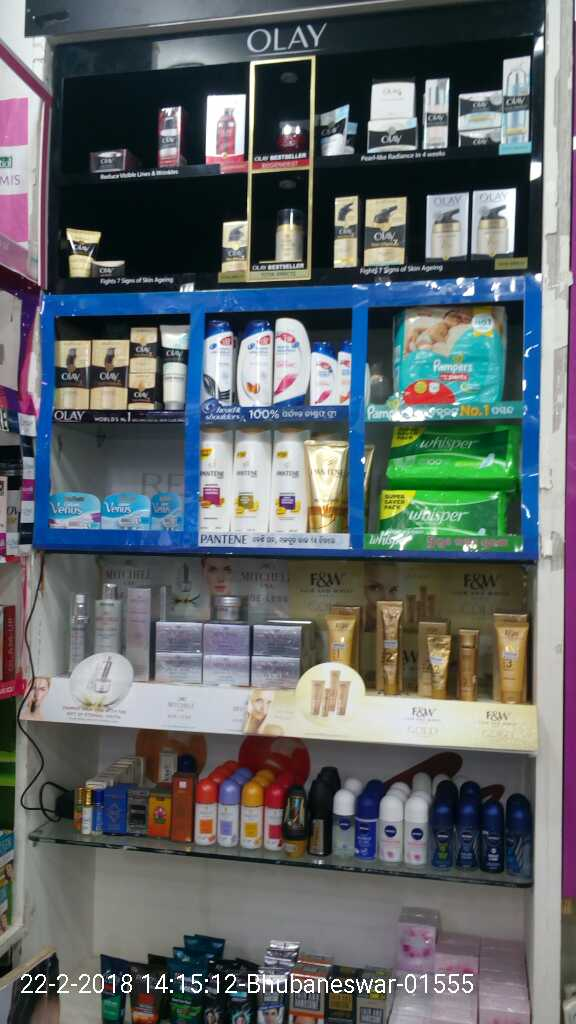venus: (50, 492, 104, 528), (104, 492, 149, 528), (149, 492, 182, 528)
